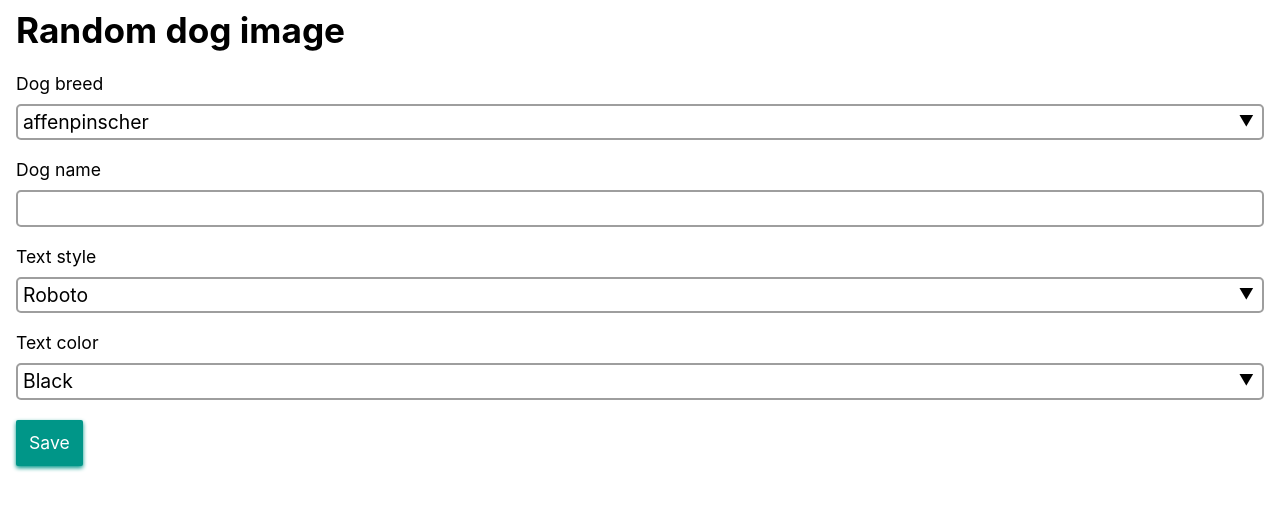
Test: DogImageForm › validationErrors › should render a validation error, when the dog name field is empty
Click the button "Save" at x=49, y=443, box [16, 420, 83, 466]
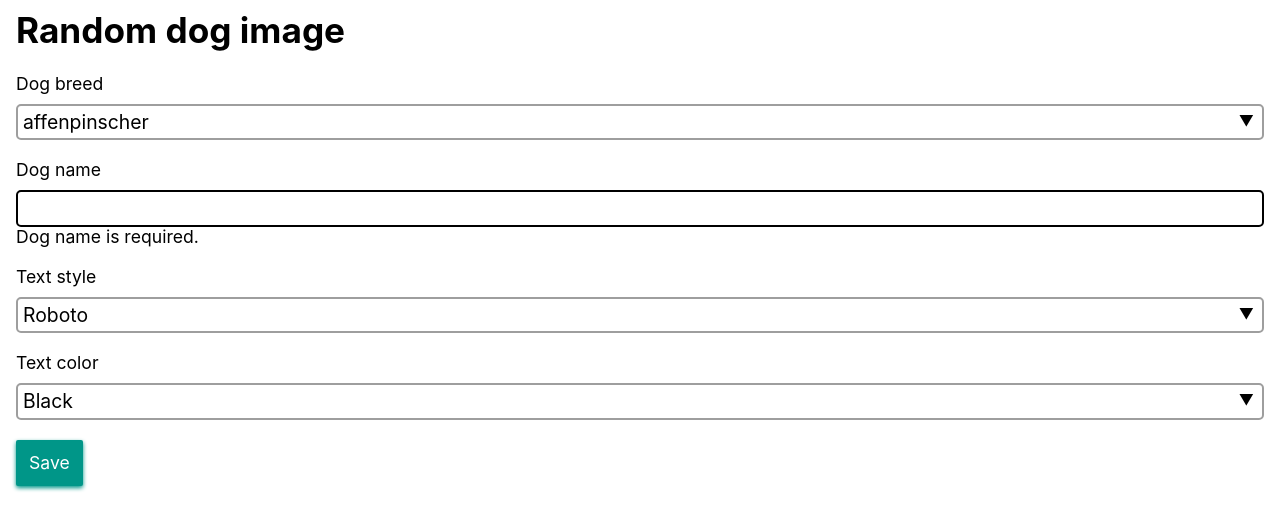
Now the text "Dog name Dog name is required." is shown, box [16, 160, 1264, 247]
